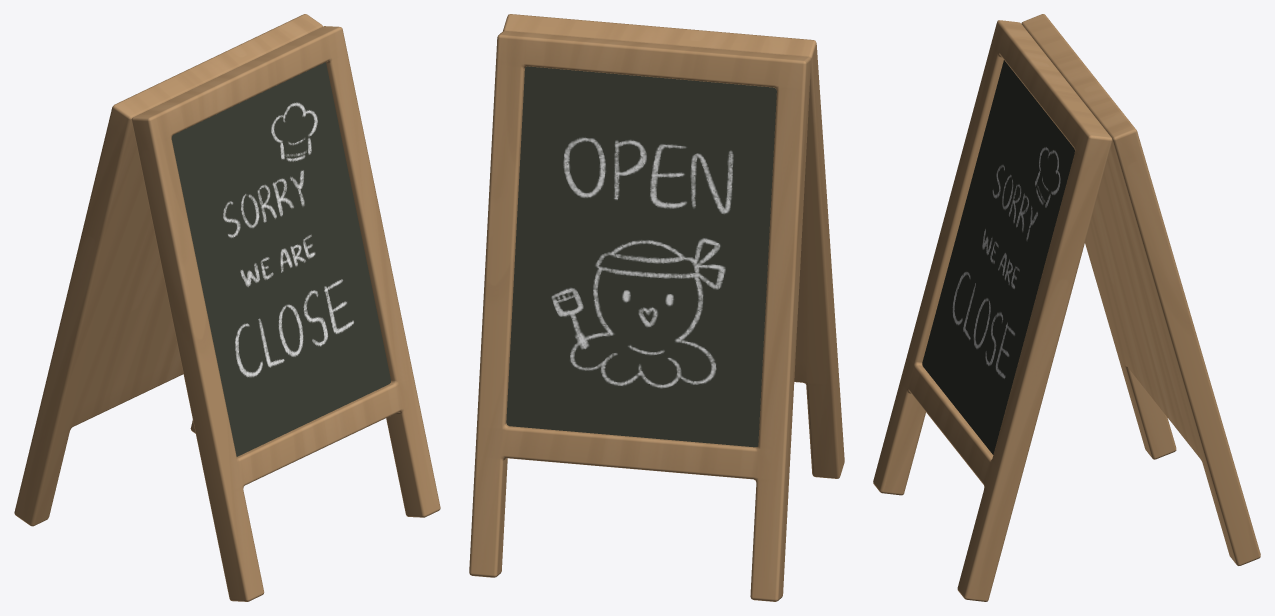
The model's file is StandSign.obj.
3 views of the same model, side by side, from view 1: azimuth 30°, elevation 25°; view 2: azimuth 150°, elevation 25°; view 3: azimuth 270°, elevation 25° (orthographic). The views are drawn at different scales.
Visible parts, largest first — view 1: StandSign_FrontSG, StandSign_BackSG; view 2: StandSign_BackSG, StandSign_FrontSG; view 3: StandSign_FrontSG, StandSign_BackSG.
Boxes of the visible parts, x1=… form: StandSign_FrontSG: x1=131, y1=26, x2=440, y2=601; StandSign_BackSG: x1=14, y1=14, x2=322, y2=526; StandSign_BackSG: x1=469, y1=31, x2=810, y2=601; StandSign_FrontSG: x1=503, y1=14, x2=844, y2=478; StandSign_FrontSG: x1=873, y1=20, x2=1112, y2=601; StandSign_BackSG: x1=1021, y1=14, x2=1260, y2=565.
Size of the model in its own units: 4.72 by 6.27 by 4.88.
2 materials, 2 textured.
